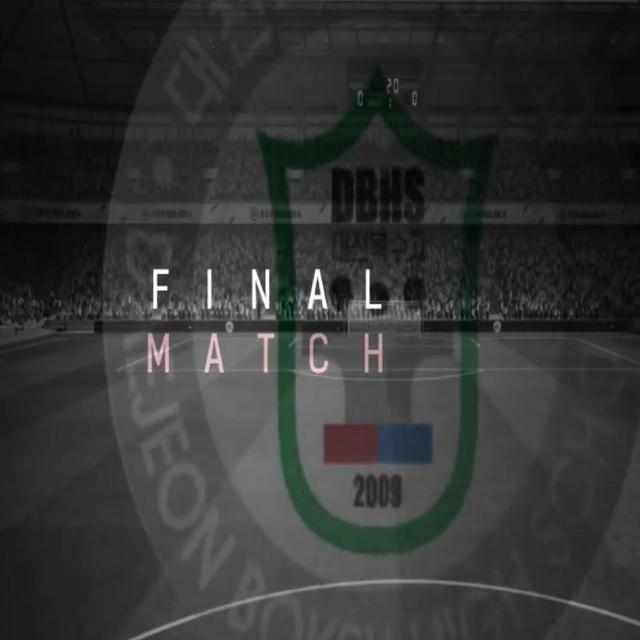logo: (96, 2, 640, 640)
